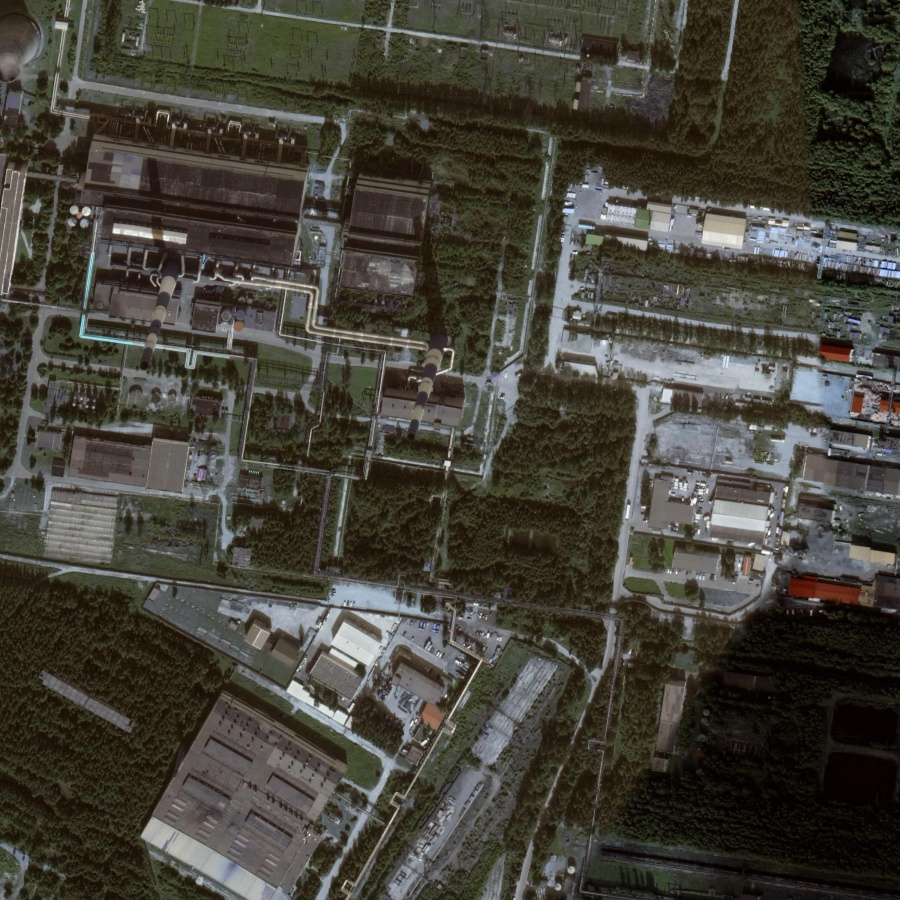PowerPlant: (93, 136, 451, 457)
